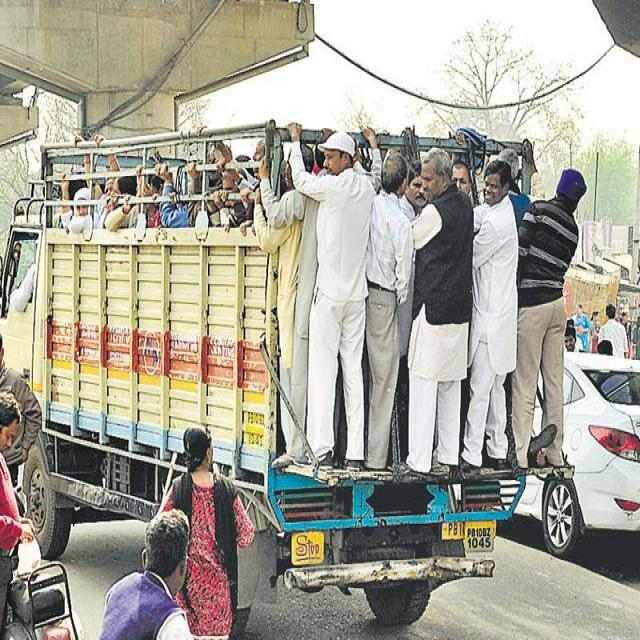car: (515, 353, 640, 558)
truck: (0, 125, 525, 622)
